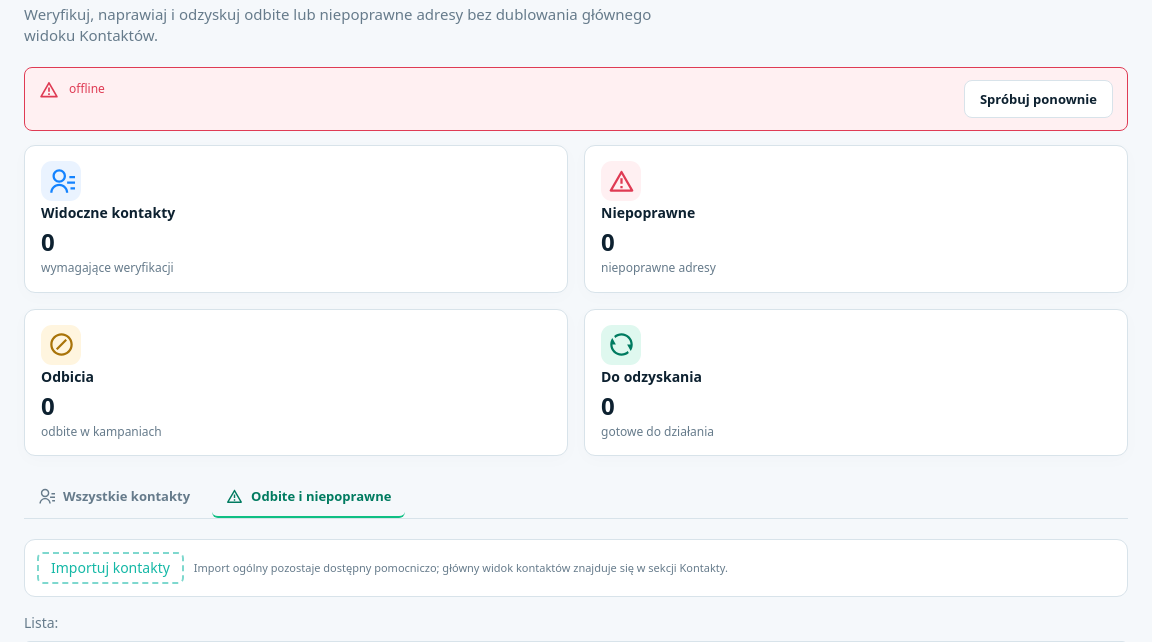
Scenario: does not present a failed contact read as an empty successful result; retry recovers
Expected: the message "offline Spróbuj ponownie" is shown, [24,67,1128,131]
Expected: the text "Brak kontaktów pasujących do tego widoku." is not shown
Click the button "Spróbuj ponownie" at (1038, 99), box [964,80,1113,118]
(page scrolled)
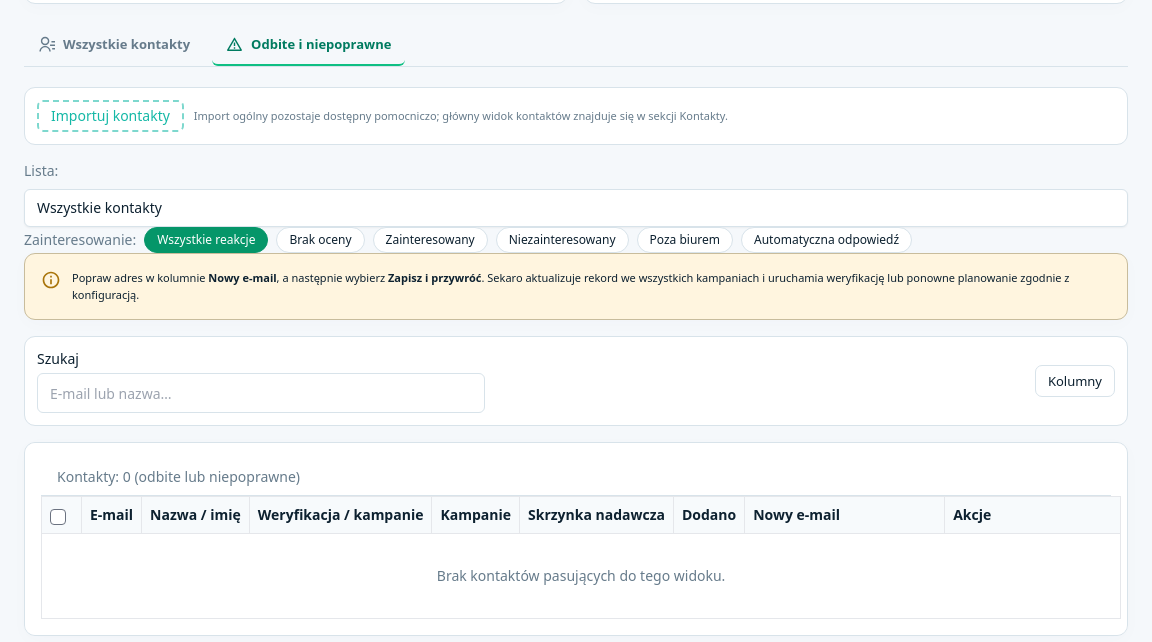
Expected: the text "Brak kontaktów pasujących do tego widoku." is shown, [42,534,1121,619]
Expected: the message "offline Spróbuj ponownie" is gone
